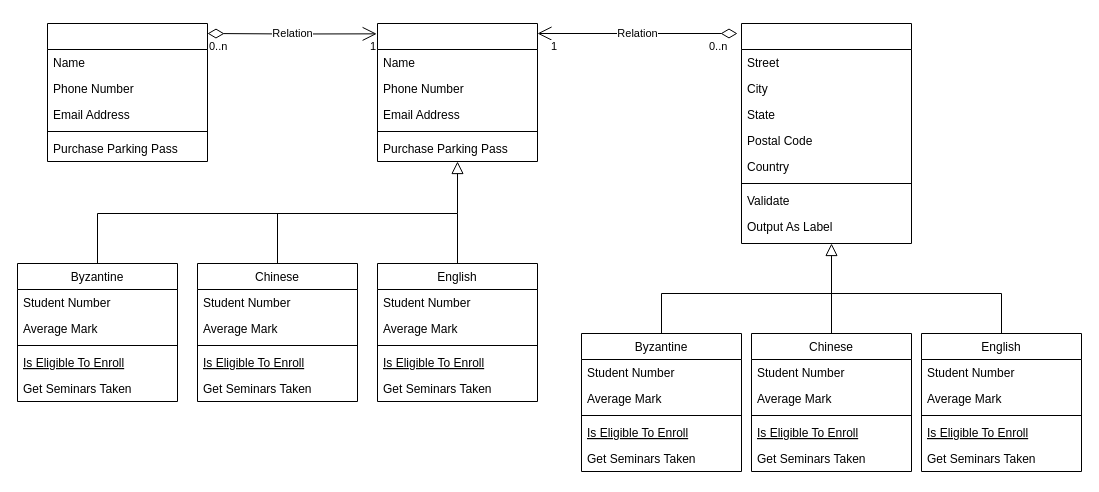
Image size: 1099x492. Some labels were removed from this diagram. The shapes that lost their labels are listed below. From the top down, each one's box as (x1, y1, x2, y2) in pixels, then its label:
(46, 22, 208, 162): Battle
(376, 22, 538, 162): Army
(740, 22, 912, 244): Unit
